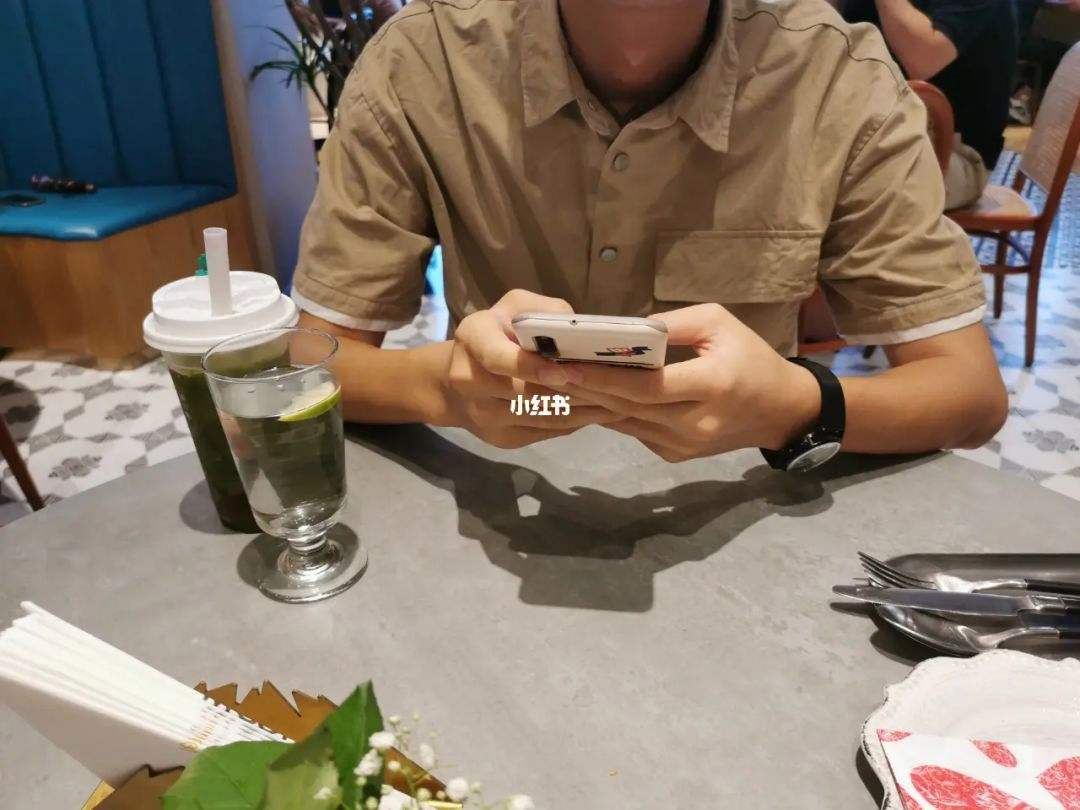reading: (420, 279, 783, 469)
